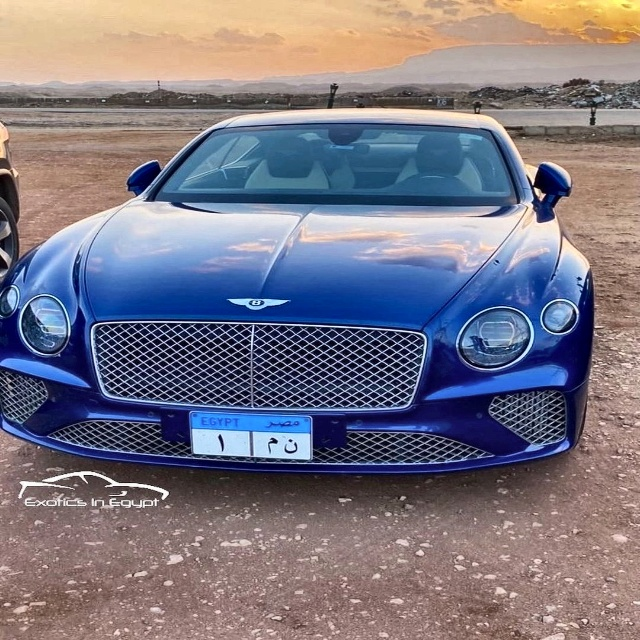License Plate: (187, 410, 315, 462)
